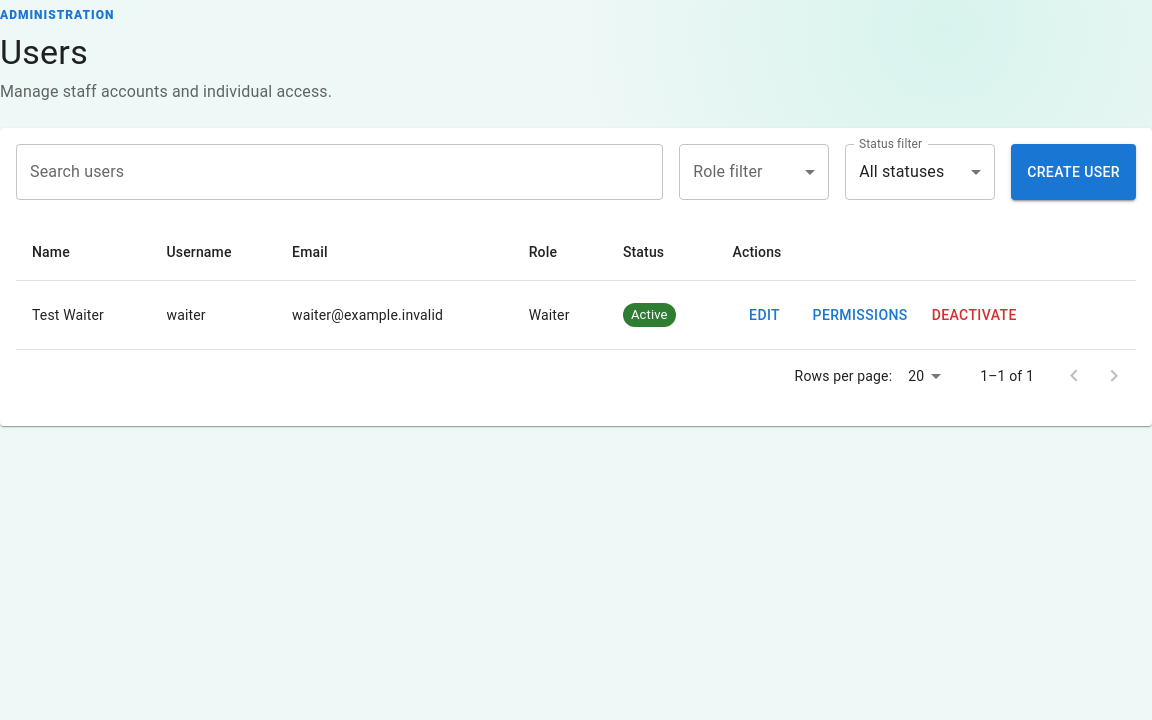
refreshes stale data and keeps the backend error visible before retry
This screenshot has width=1152, height=720.
Click the button with aria-label "Edit Test Waiter" at (764,315), box x1=732 y1=297 x2=796 y2=333
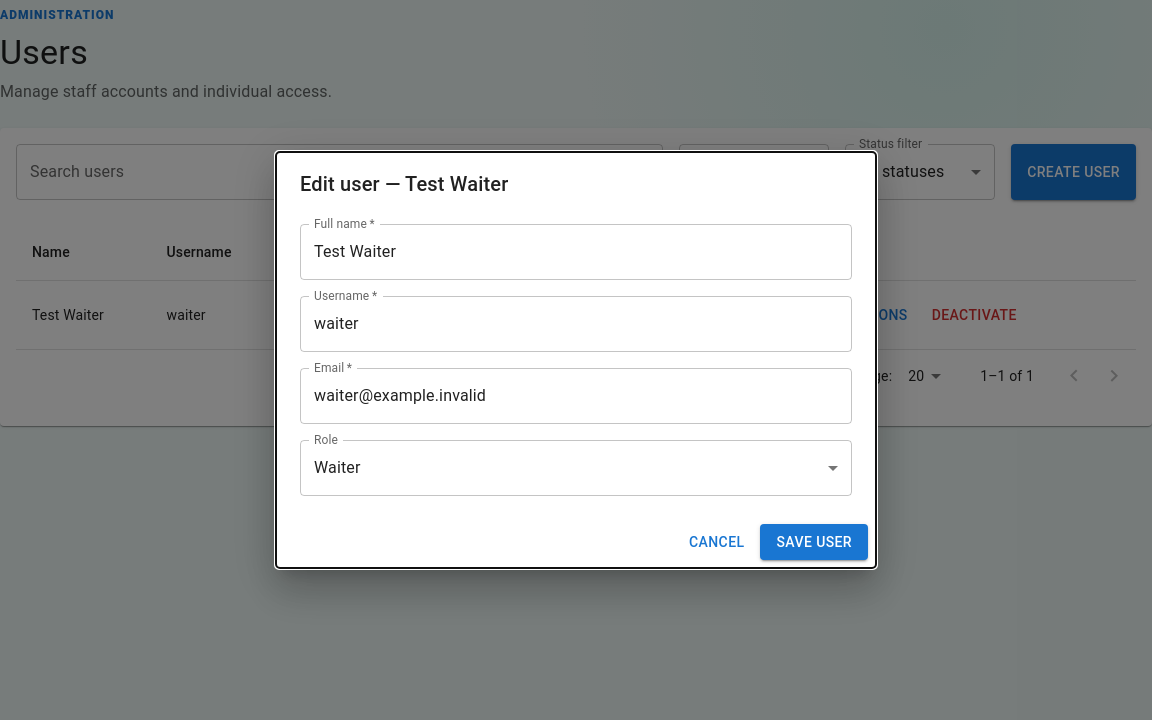
Now the field labelled "Full name *" is shown, box x1=300 y1=224 x2=852 y2=280
Click the button "Save user" at (814,542), box x1=760 y1=524 x2=868 y2=560
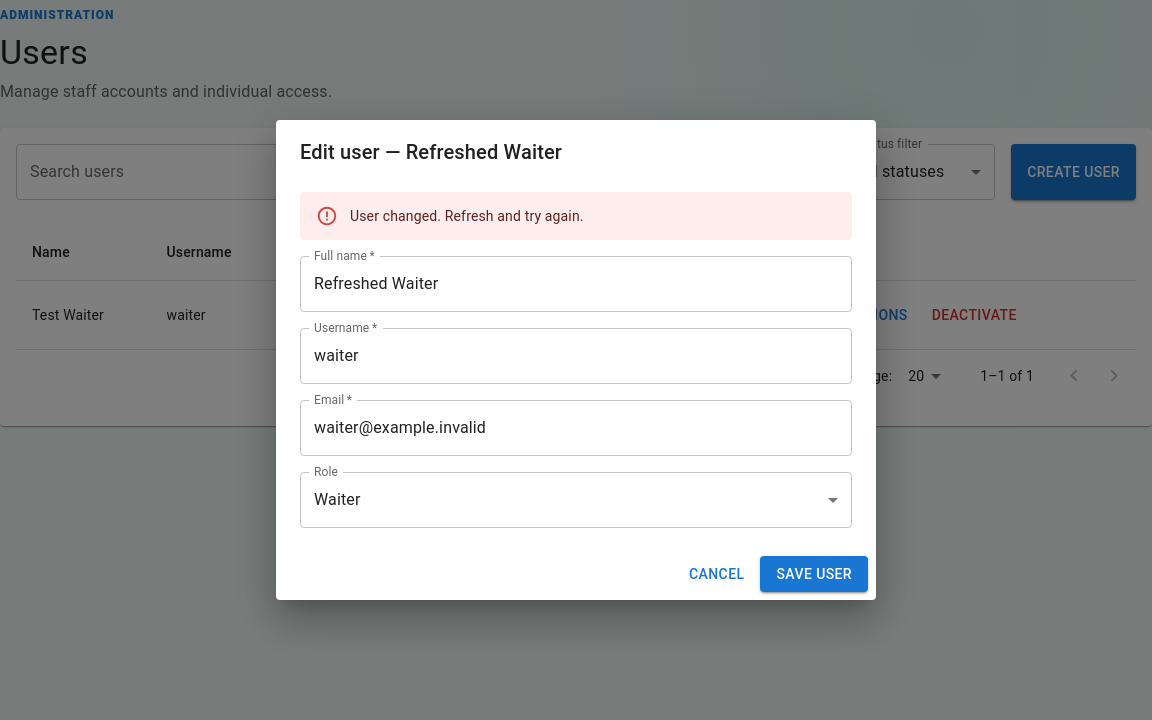
Now the text "User changed. Refresh and try again." is shown, box x1=350 y1=208 x2=584 y2=224
Now the field labelled "Full name *" holds "Refreshed Waiter", box x1=300 y1=256 x2=852 y2=312
